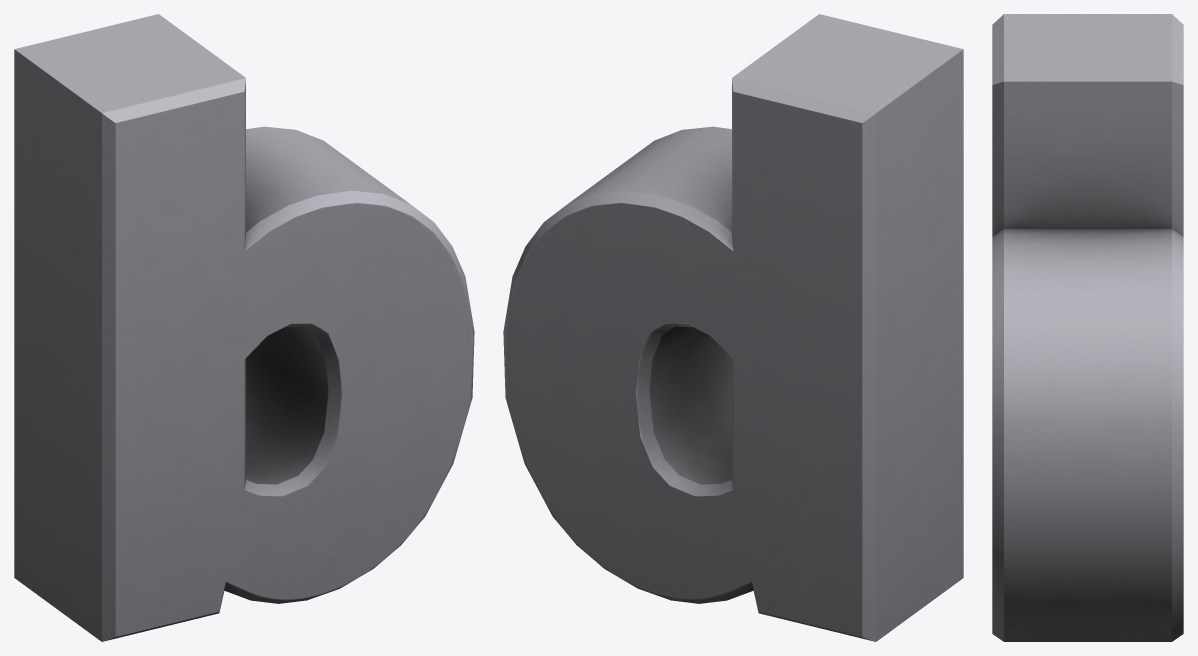
The model's file is b_lowc_static.fbx.
3 views of the same model, side by side, from view 1: azimuth 30°, elevation 25°; view 2: azimuth 150°, elevation 25°; view 3: azimuth 270°, elevation 25° (orthographic). The views are drawn at different scales.
Parts seen in each view (by area): view 1: b_lowc_static; view 2: b_lowc_static; view 3: b_lowc_static.
Boxes of the visible parts, left/top/right/bottom form: b_lowc_static: left=14, top=14, right=474, bottom=641; b_lowc_static: left=503, top=14, right=963, bottom=641; b_lowc_static: left=992, top=14, right=1183, bottom=641.
Size of the model in its own units: 71.32 by 98.25 by 33.
